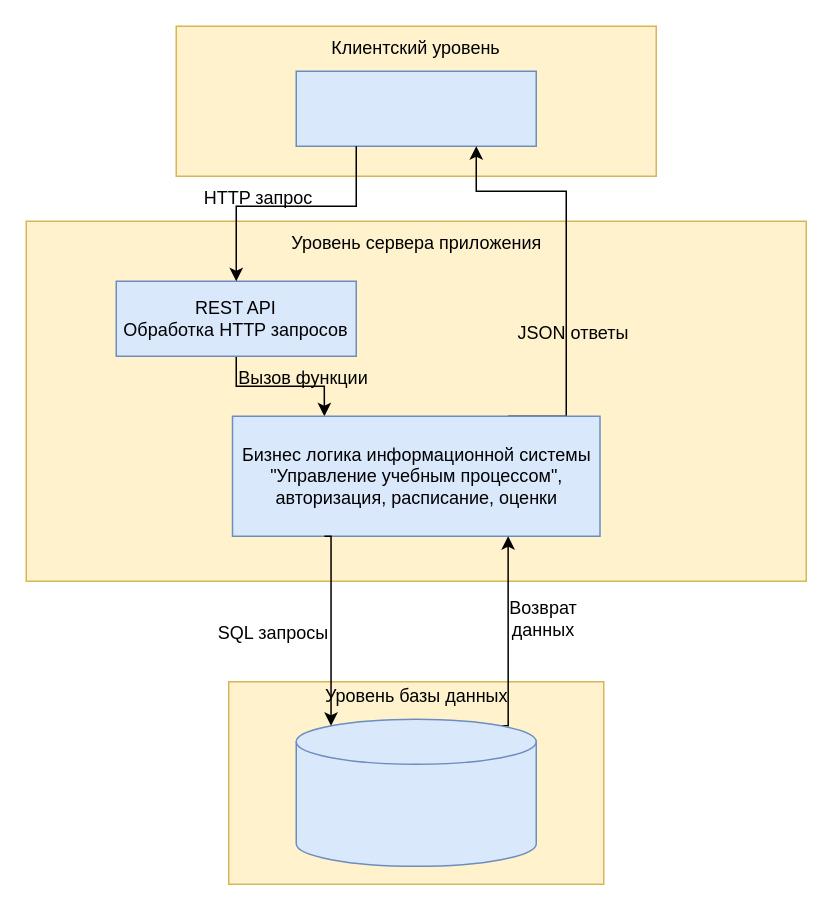
The diagram is 833 pixels wide and 911 high, and some of its shapes have lost their labels. The shapes that lost their labels are listed below. From the top down, each one's centre as x and y in pixels, then its label:
pixel 415 108: WEB-интерфейс Браузер пользователя
pixel 415 792: СУБД PostgreSQL Таблицы: Users, Schedule, Grades
